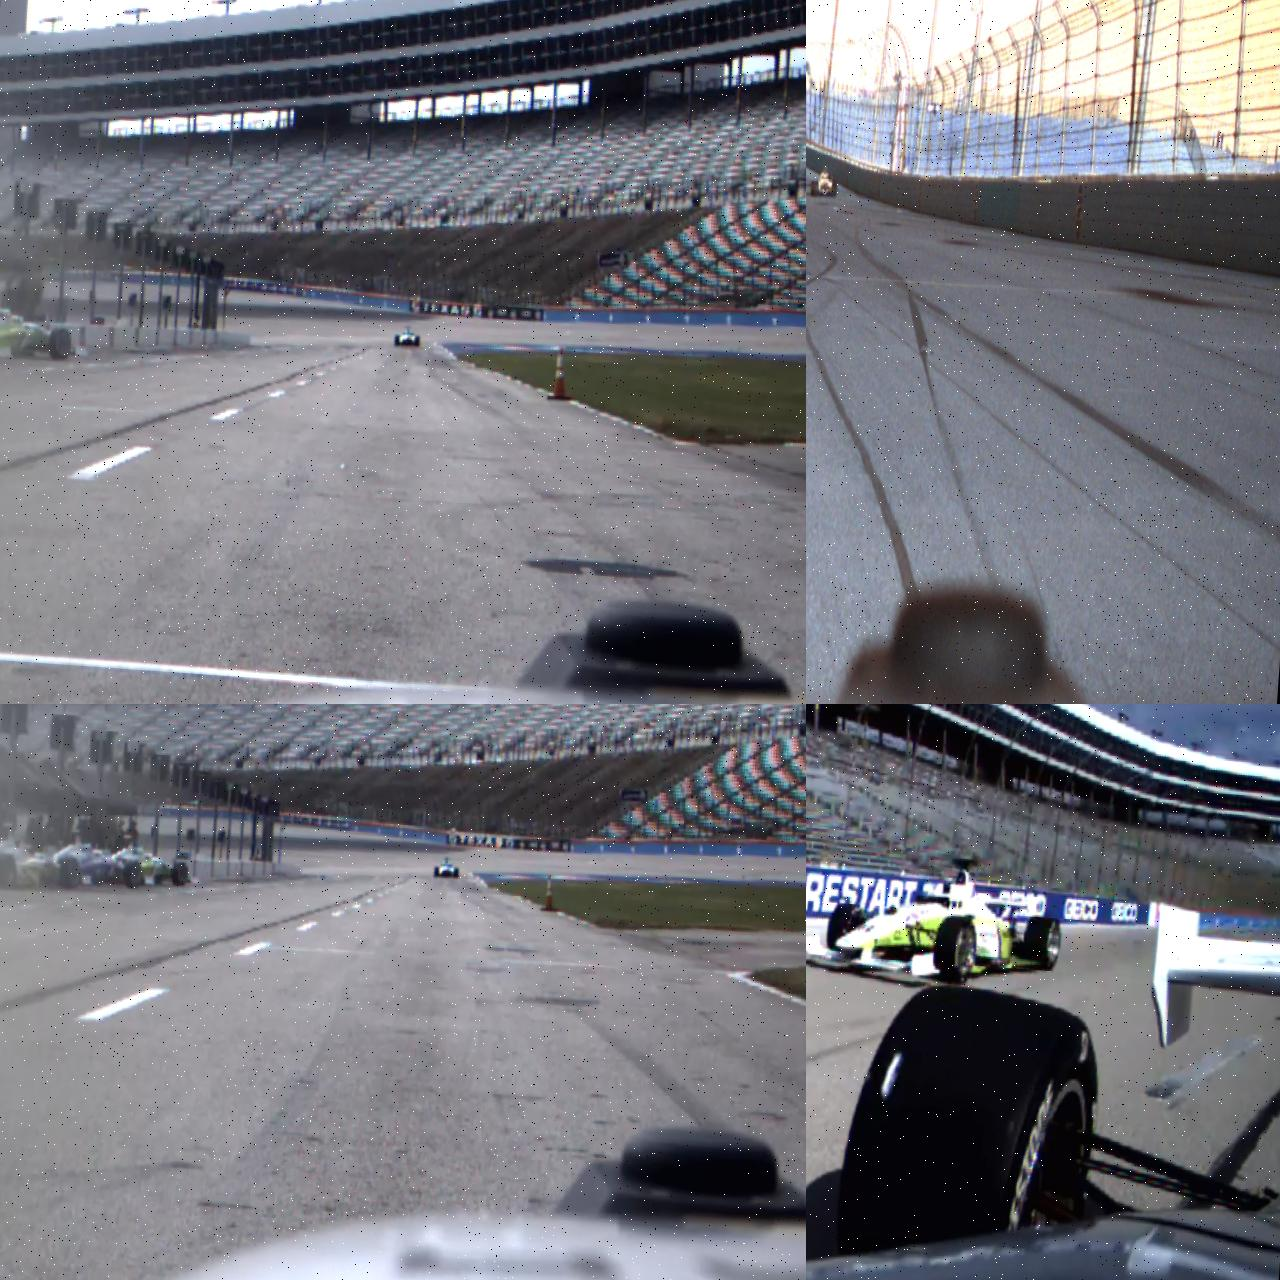AV: (806, 845, 1065, 992), (0, 817, 96, 896), (0, 290, 75, 362), (810, 164, 838, 199), (394, 325, 421, 348), (435, 856, 461, 878)
Wheel: (839, 980, 1104, 1269), (933, 914, 979, 986), (1022, 915, 1062, 972), (826, 903, 866, 952), (48, 327, 73, 361), (60, 857, 82, 890), (0, 853, 18, 890), (123, 859, 143, 888), (171, 862, 189, 887), (831, 181, 837, 197), (813, 181, 819, 197), (394, 334, 400, 347), (810, 181, 815, 196), (415, 335, 420, 347), (454, 867, 459, 877), (435, 866, 440, 877)
